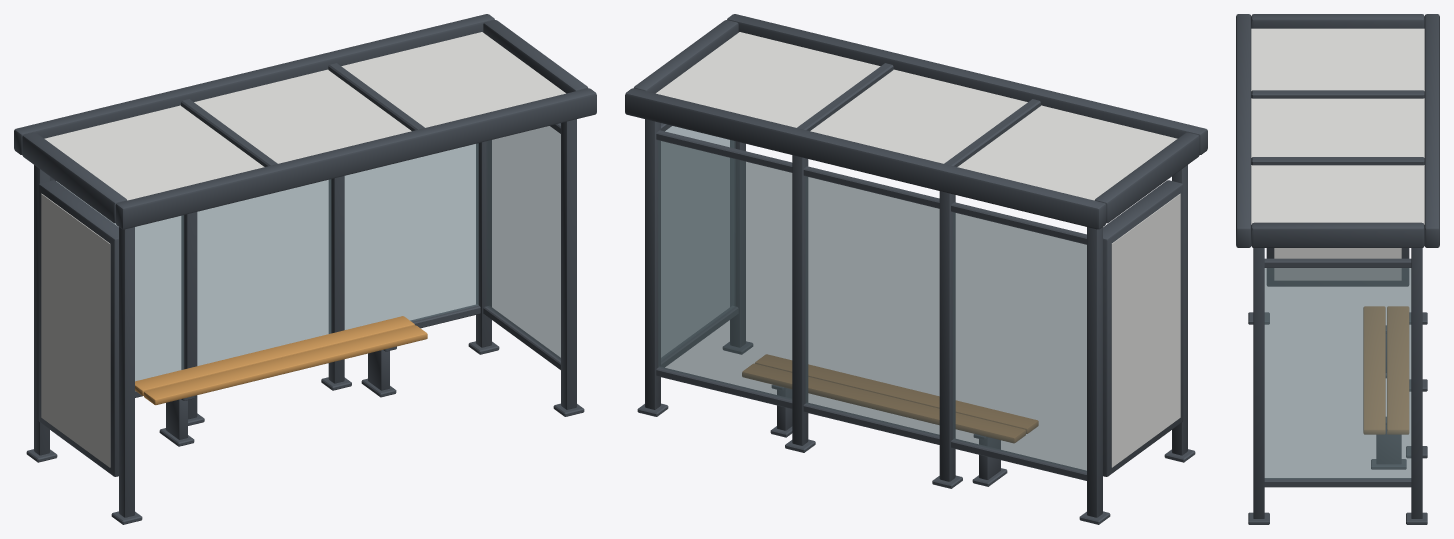
Rendered from BusShelter.fbx.
The picture shows the model from 3 angles, left to right: view 1: azimuth 30°, elevation 25°; view 2: azimuth 150°, elevation 25°; view 3: azimuth 270°, elevation 25°; orthographic projection. The views are drawn at different scales.
Visible parts, largest first — view 1: BusShelter_Mesh; view 2: BusShelter_Mesh; view 3: BusShelter_Mesh.
Part boxes in pixels (bbox=[...]): BusShelter_Mesh: bbox=[14, 14, 596, 524]; BusShelter_Mesh: bbox=[625, 14, 1207, 524]; BusShelter_Mesh: bbox=[1236, 14, 1439, 524].
Bounding box in the file's own units: 4 × 2.6 × 1.6.
